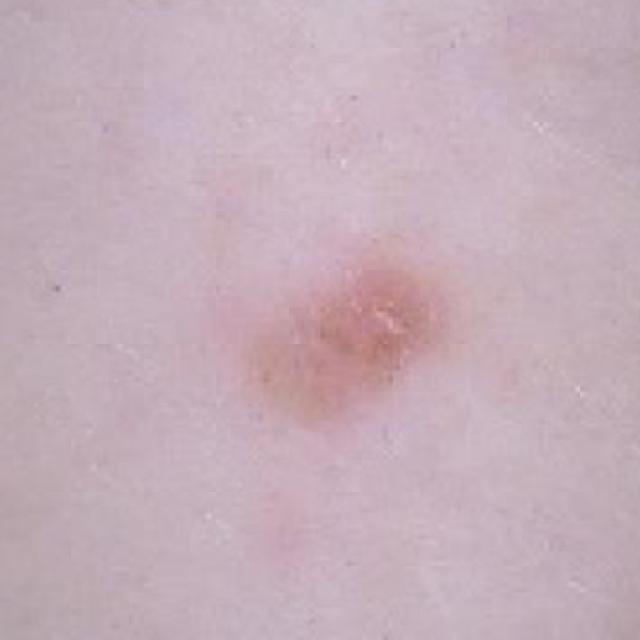BCC: (242, 233, 471, 454)
